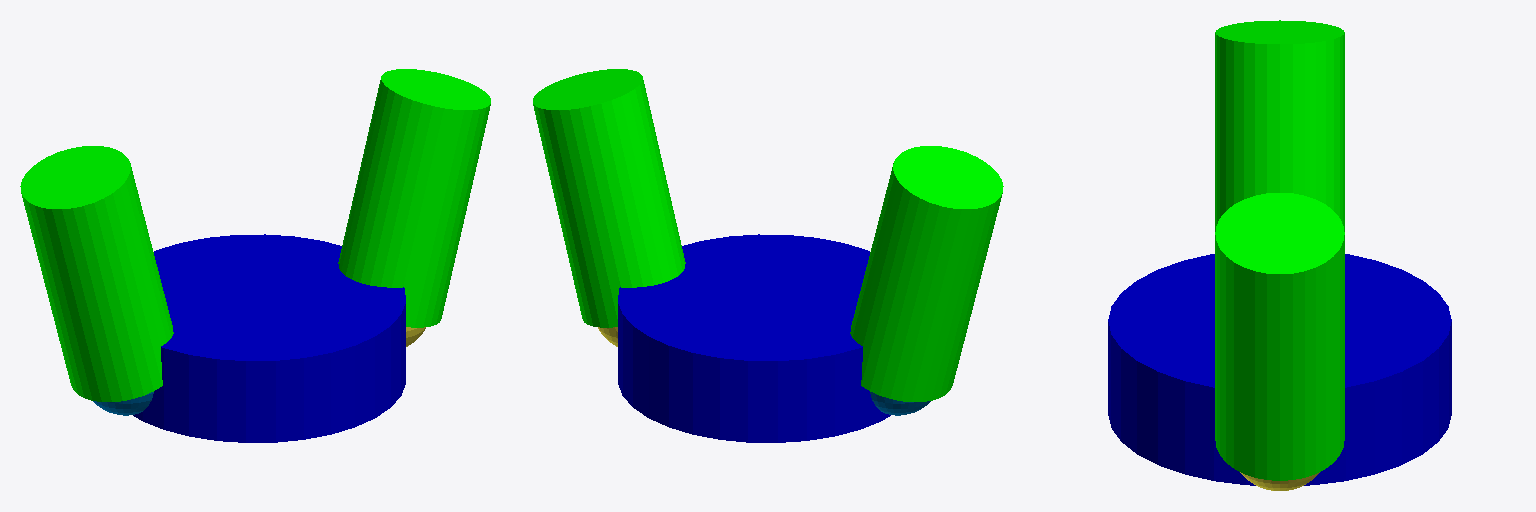
robot.urdf — gripper_2f_1j:
<?xml version='1.0' encoding='UTF-8'?>
<robot name="gripper_2f_1j">
  <link name="palm">
    <inertial>
      <origin xyz="0.0 0.0 0.0" rpy="0.0 -0.0 0.0"/>
      <mass value="1.0"/>
      <inertia ixx="1.0" ixy="0.0" ixz="0.0" iyy="1.0" iyz="0.0" izz="1.0"/>
    </inertial>
    <visual>
      <geometry>
        <cylinder radius="0.05" length="0.03"/>
      </geometry>
      <material name="blue"/>
      <origin xyz="0.0 0.0 0.0" rpy="0.0 -0.0 0.0"/>
    </visual>
    <collision>
      <geometry>
        <cylinder radius="0.05" length="0.03"/>
      </geometry>
      <origin xyz="0.0 0.0 0.0" rpy="0.0 0.0 0.0"/>
    </collision>
  </link>
  <link name="f11">
    <inertial>
      <origin xyz="0.0 0.0 0.0" rpy="0.0 -0.0 0.0"/>
      <mass value="1.0"/>
      <inertia ixx="1.0" ixy="0.0" ixz="0.0" iyy="1.0" iyz="0.0" izz="1.0"/>
    </inertial>
    <visual>
      <geometry>
        <cylinder radius="0.018820549467144145" length="0.07767547865094888"/>
      </geometry>
      <material name="green"/>
      <origin xyz="0.0 0.0 0.03883773932547444" rpy="0.0 -0.0 0.0"/>
    </visual>
    <collision>
      <geometry>
        <cylinder radius="0.018820549467144145" length="0.07767547865094888"/>
      </geometry>
      <origin xyz="0.0 0.0 0.05" rpy="0.0 0.0 0.0"/>
    </collision>
  </link>
  <link name="f21">
    <inertial>
      <origin xyz="0.0 0.0 0.0" rpy="0.0 -0.0 0.0"/>
      <mass value="1.0"/>
      <inertia ixx="1.0" ixy="0.0" ixz="0.0" iyy="1.0" iyz="0.0" izz="1.0"/>
    </inertial>
    <visual>
      <geometry>
        <cylinder radius="0.018820549467144145" length="0.07767547865094888"/>
      </geometry>
      <material name="green"/>
      <origin xyz="0.0 0.0 0.03883773932547444" rpy="0.0 -0.0 0.0"/>
    </visual>
    <collision>
      <geometry>
        <cylinder radius="0.018820549467144145" length="0.07767547865094888"/>
      </geometry>
      <origin xyz="0.0 0.0 0.05" rpy="0.0 0.0 0.0"/>
    </collision>
  </link>
  <link name="f11_base">
    <inertial>
      <origin xyz="0.0 0.0 0.0" rpy="0.0 -0.0 0.0"/>
      <mass value="1.0"/>
      <inertia ixx="1.0" ixy="0.0" ixz="0.0" iyy="1.0" iyz="0.0" izz="1.0"/>
    </inertial>
    <visual>
      <geometry>
        <sphere radius="0.015"/>
      </geometry>
      <origin xyz="0.0 0.0 0.0" rpy="0.0 -0.0 0.0"/>
    </visual>
  </link>
  <link name="f21_base">
    <inertial>
      <origin xyz="0.0 0.0 0.0" rpy="0.0 -0.0 0.0"/>
      <mass value="1.0"/>
      <inertia ixx="1.0" ixy="0.0" ixz="0.0" iyy="1.0" iyz="0.0" izz="1.0"/>
    </inertial>
    <visual>
      <geometry>
        <sphere radius="0.015"/>
      </geometry>
      <origin xyz="0.0 0.0 0.0" rpy="0.0 -0.0 0.0"/>
    </visual>
  </link>
  <joint name="f11_joint" type="revolute">
    <dynamics damping="100.0" friction="1.0"/>
    <limit effort="30.0" velocity="2.0" lower="-0.6" upper="0.25"/>
    <parent link="f11_base"/>
    <child link="f11"/>
    <axis xyz="0. 1. 0."/>
    <origin xyz="0.0 0.0 0.0" rpy="0.0 0.25 0.0"/>
  </joint>
  <joint name="f21_joint" type="revolute">
    <dynamics damping="100.0" friction="1.0"/>
    <limit effort="30.0" velocity="2.0" lower="-0.6" upper="0.25"/>
    <parent link="f21_base"/>
    <child link="f21"/>
    <axis xyz=" 0. -1.  0."/>
    <origin xyz="0.0 0.0 0.0" rpy="0.0 -0.25 0.0"/>
  </joint>
  <joint name="f11_base_joint" type="fixed">
    <parent link="palm"/>
    <child link="f11_base"/>
    <axis xyz="1. 0. 0."/>
    <origin xyz="0.05 0.0 0.0" rpy="0.0 0.0 0.0"/>
  </joint>
  <joint name="f21_base_joint" type="fixed">
    <parent link="palm"/>
    <child link="f21_base"/>
    <axis xyz="1. 0. 0."/>
    <origin xyz="-0.05 -0.0 0.0" rpy="0.0 0.0 0.0"/>
  </joint>
  <material name="blue">
    <color rgba="0.  0.  0.8 1. "/>
  </material>
  <material name="green">
    <color rgba="0. 1. 0. 1."/>
  </material>
</robot>

--- What the picture shows (computed from the rendered views, not written in the file) ---
The picture shows the robot from 3 angles, left to right: view 1: azimuth 30°, elevation 25°; view 2: azimuth 150°, elevation 25°; view 3: azimuth 270°, elevation 25°; orthographic projection.
Robot: gripper_2f_1j — 5 links, 4 joints (2 revolute, 2 fixed); root link palm; default pose: every joint at zero.
Visible links, largest first — view 1: palm, f21, f11, f21_base; view 2: palm, f21, f11, f21_base; view 3: palm, f11, f21, f11_base.
Link boxes in pixels (bbox=[...]): palm: bbox=[133, 234, 405, 442]; f21: bbox=[20, 146, 173, 401]; f11: bbox=[338, 69, 490, 327]; f21_base: bbox=[93, 392, 153, 415]; palm: bbox=[618, 234, 890, 442]; f21: bbox=[850, 146, 1003, 401]; f11: bbox=[533, 69, 685, 327]; f21_base: bbox=[870, 392, 930, 415]; palm: bbox=[1108, 254, 1451, 485]; f11: bbox=[1215, 193, 1344, 480]; f21: bbox=[1215, 20, 1344, 231]; f11_base: bbox=[1240, 472, 1319, 490].
Bounding box of the posed robot: 0.1749 × 0.1 × 0.0949 m (x, y, z).
Geometry: primitives only (box / cylinder / sphere), no mesh files.